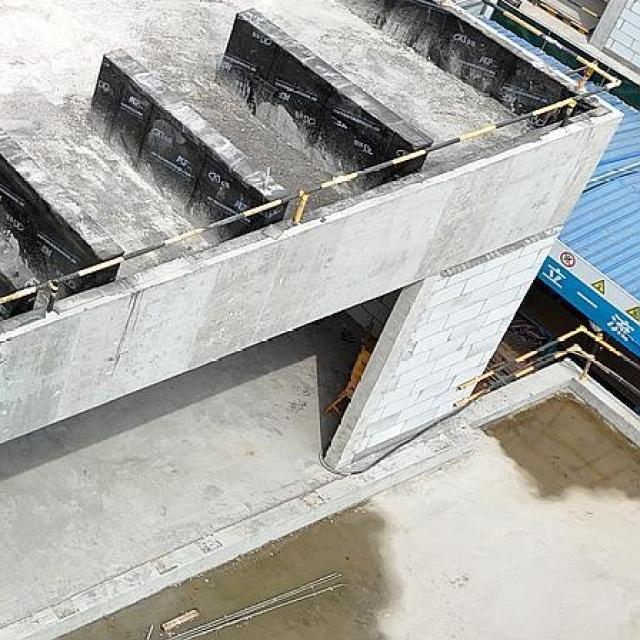edge_guardrail: (0, 0, 626, 309), (453, 324, 640, 412), (538, 0, 601, 33)
